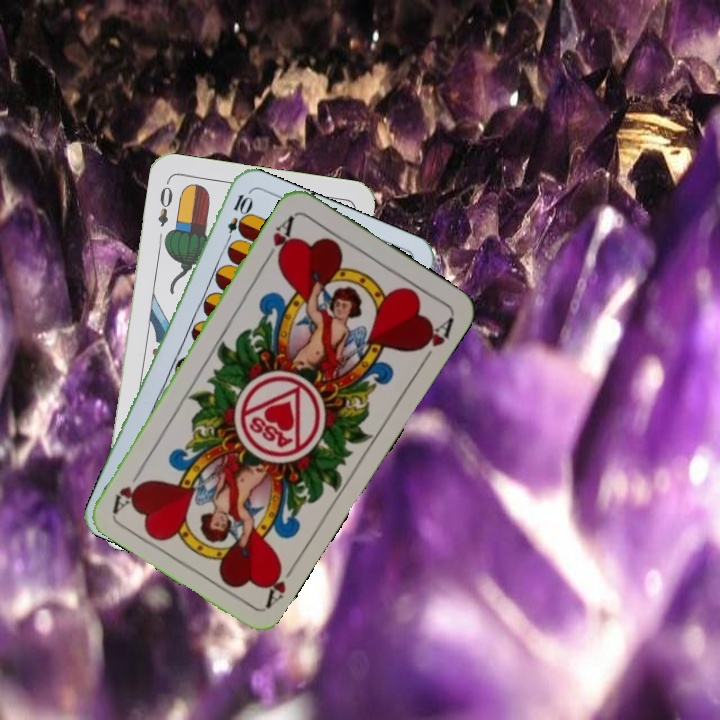E10: (221, 190, 253, 248)
EO: (153, 177, 175, 229)
HA: (259, 557, 300, 611), (261, 211, 297, 266)
